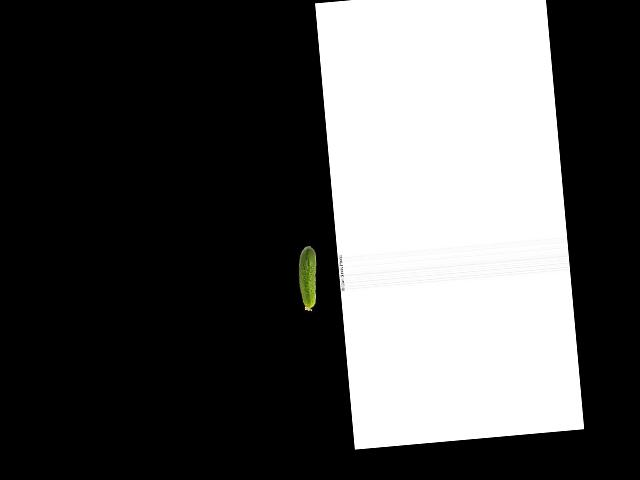cucumber: (296, 245, 320, 311)
